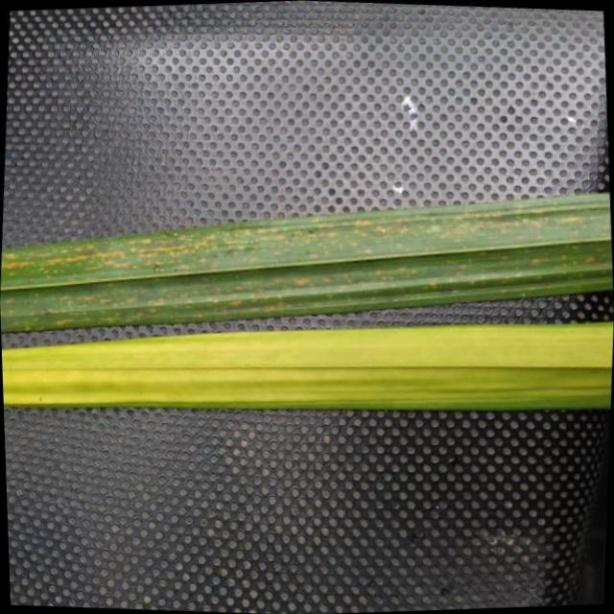nitrogen: (0, 326, 614, 410)
